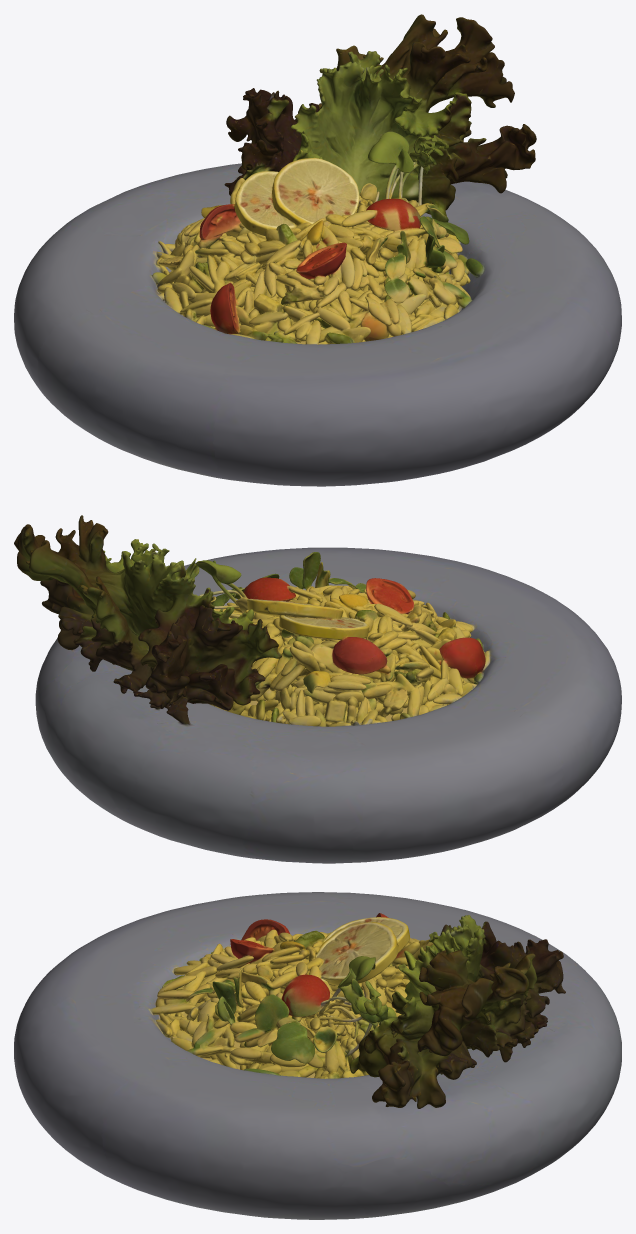
File: Meshy_AI_Garden_Orzo_Delight_0813065557_texture-v1.glb
3 views of the same model, one above another, from view 1: azimuth 30°, elevation 25°; view 2: azimuth 150°, elevation 25°; view 3: azimuth 270°, elevation 25° (orthographic). The views are drawn at different scales.
Parts seen in each view (by area): view 1: mesh_node; view 2: mesh_node; view 3: mesh_node.
Boxes of the visible parts, left/top/right/bottom form: mesh_node: left=14, top=14, right=621, bottom=486; mesh_node: left=14, top=515, right=621, bottom=863; mesh_node: left=14, top=892, right=621, bottom=1219.
Size of the model in its own units: 1.9 by 0.9005 by 1.9.
Materials: 1 (1 with a texture image).
